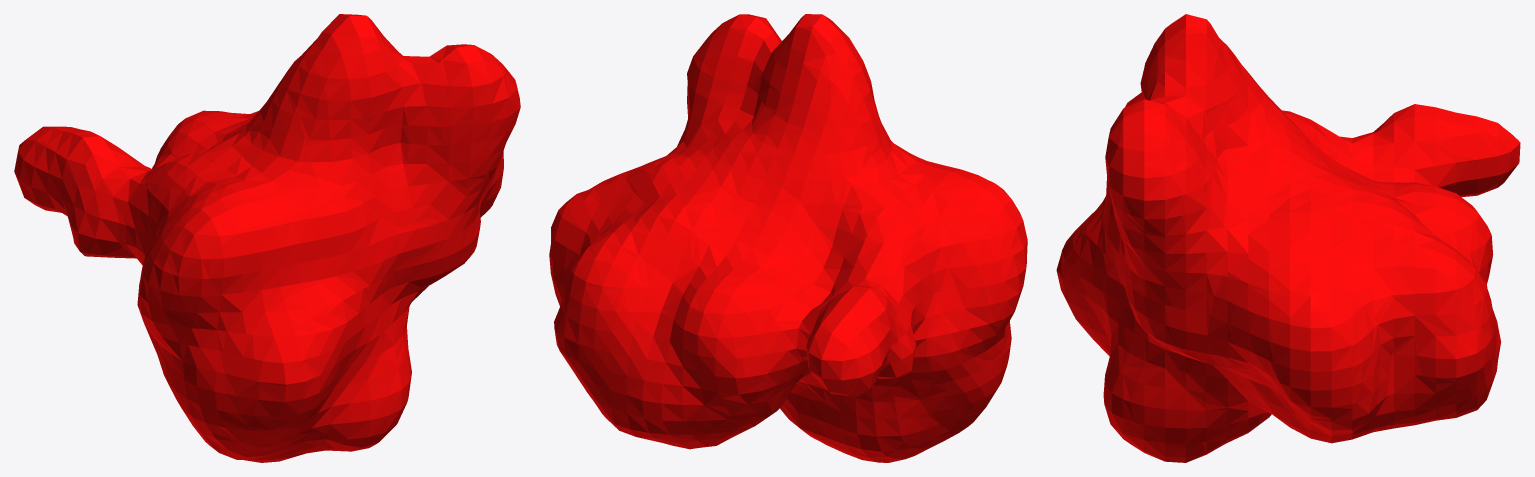
Rendered from fis_coarse.dae.
3 views of the same model, side by side, from view 1: azimuth 30°, elevation 25°; view 2: azimuth 150°, elevation 25°; view 3: azimuth 270°, elevation 25° (orthographic). The views are drawn at different scales.
Visible parts, largest first — view 1: fis; view 2: fis; view 3: fis.
Part boxes in pixels (box(x1,y1,x2,y2)): fis: box(14, 14, 520, 462); fis: box(549, 14, 1027, 462); fis: box(1056, 14, 1520, 462).
Size of the model in its own units: 51.15 by 51.19 by 47.51.
